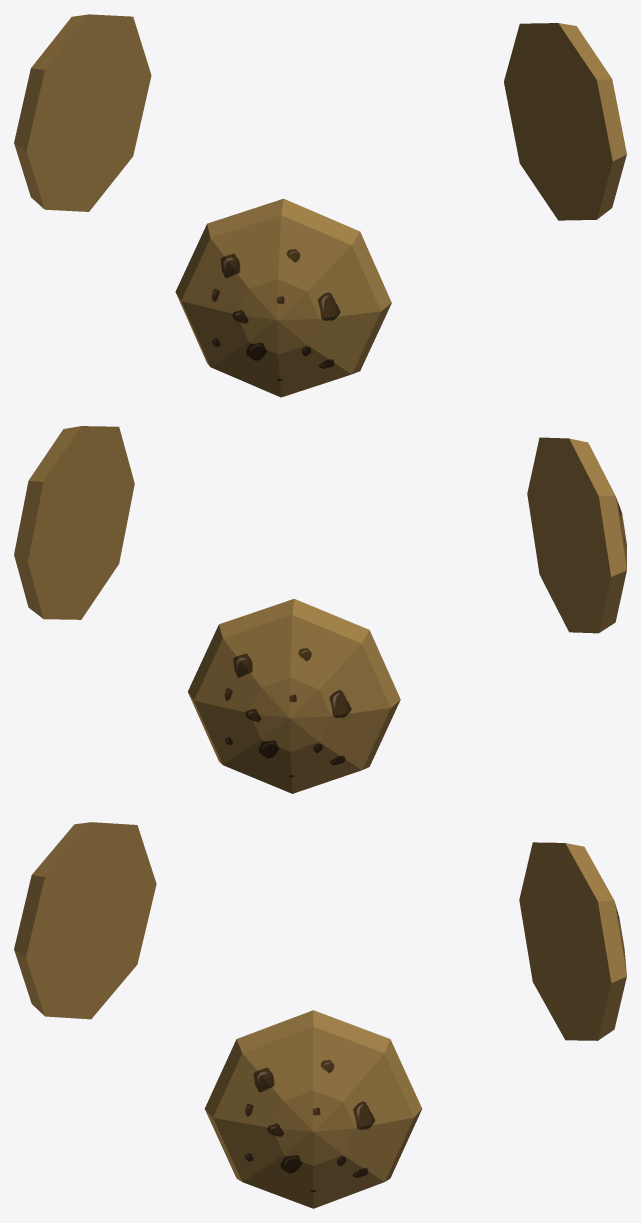
The model's file is CookieShield_Animation.fbx.
3 views of the same model, one above another, from view 1: azimuth 30°, elevation 25°; view 2: azimuth 150°, elevation 25°; view 3: azimuth 270°, elevation 25° (orthographic).
Visible parts, largest first — view 1: pSphere4; view 2: pSphere4; view 3: pSphere4.
Boxes of the visible parts, box(x1,y1,x2,y2) form: pSphere4: box(14, 14, 626, 397); pSphere4: box(14, 426, 626, 793); pSphere4: box(14, 822, 626, 1208).
Size of the model in its own units: 0.3883 by 0.1427 by 0.4018.
